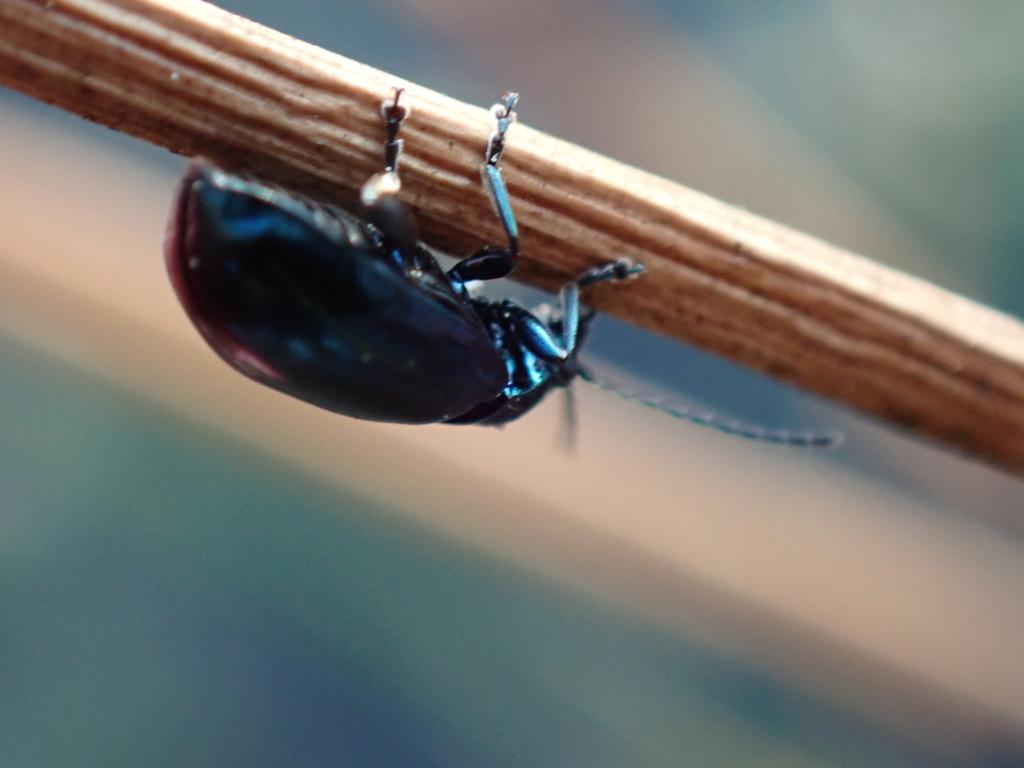flea_beetle: (140, 45, 896, 594)
